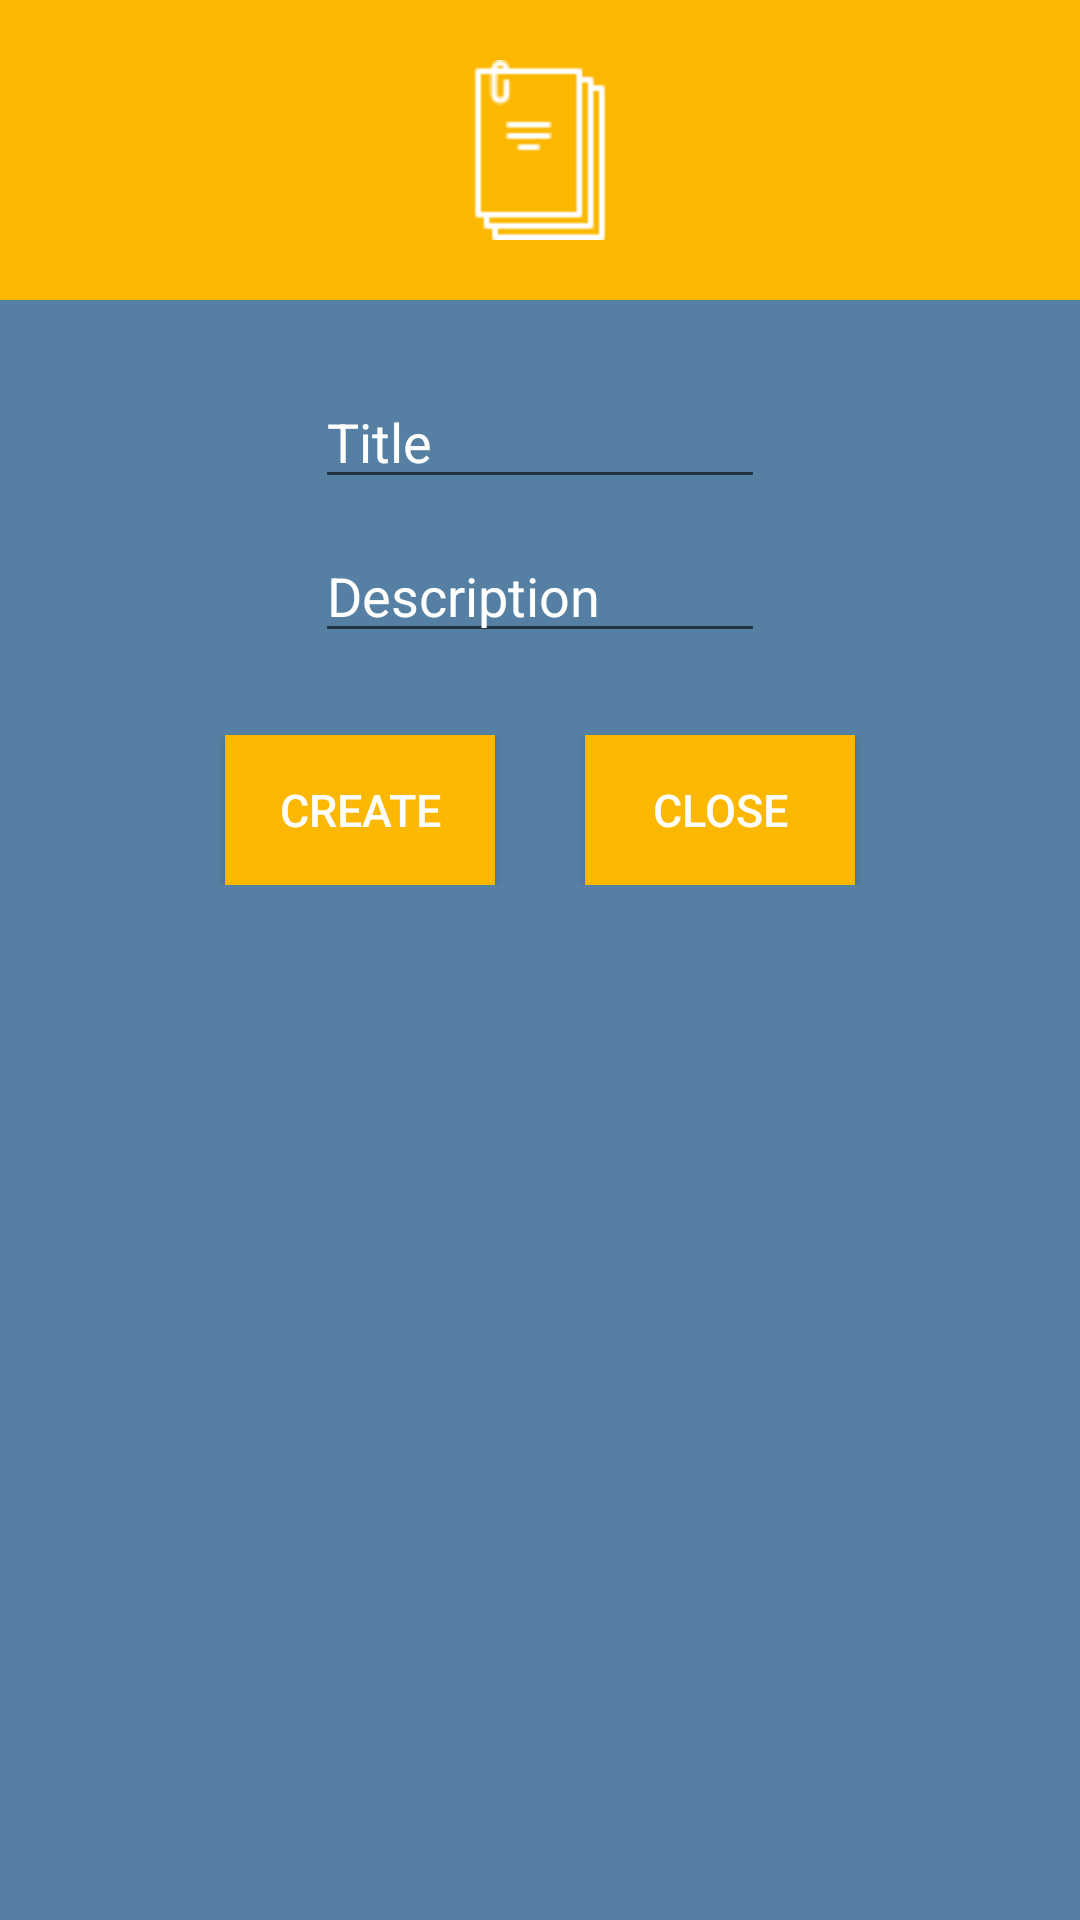

Point at icon controls on the screen. Image size 1080 x 1920, points as point (x, y).
scrip: point (540, 150)
